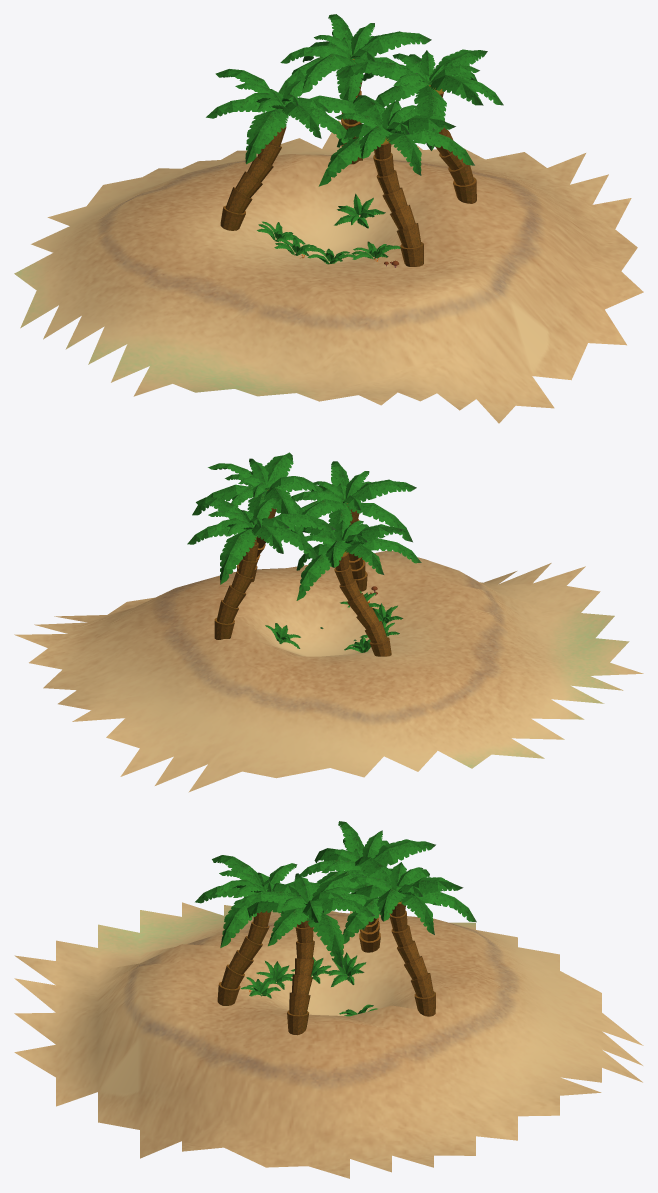
Rendered from ile_4.glb.
3 renders of one model, top to bottom at view 1: azimuth 30°, elevation 25°; view 2: azimuth 150°, elevation 25°; view 3: azimuth 270°, elevation 25°, orthographic. The views are drawn at different scales.
Visible parts, largest first — view 1: Terrain, palma tronco.009_Material.019_0, palma tronco.003_Material.019_0, Foglia.042_palmafoglia.001_0, palma tronco.005_Material.019_0, Foglia.063_palmafoglia.001_0, Foglia.303_palmafoglia.001_0, Foglia.321_palmafoglia.001_0, Foglia.323_palmafoglia.001_0, Foglia.291_palmafoglia.001_0, Foglia.307_palmafoglia.001_0, Foglia.318_palmafoglia.001_0 (+8 smaller); view 2: Terrain, palma tronco.003_Material.019_0, palma tronco.004_Material.019_0, Foglia.056_palmafoglia.001_0, Foglia.298_palmafoglia.001_0, Foglia.303_palmafoglia.001_0, Foglia.054_palmafoglia.001_0, Foglia.307_palmafoglia.001_0, Foglia.318_palmafoglia.001_0, palma tronco.009_Material.019_0, Foglia.042_palmafoglia.001_0, Foglia.306_palmafoglia.001_0 (+4 smaller); view 3: Terrain, palma tronco.004_Material.019_0, palma tronco.005_Material.019_0, palma tronco.009_Material.019_0, Foglia.311_palmafoglia.001_0, Foglia.049_palmafoglia.001_0, Foglia.291_palmafoglia.001_0, Foglia.309_palmafoglia.001_0, Foglia.312_palmafoglia.001_0, Foglia.056_palmafoglia.001_0, Foglia.318_palmafoglia.001_0, Foglia.336_palmafoglia.001_0 (+6 smaller).
Boxes of the visible parts, x1,y1,x2,y2 form: Terrain: (14,120,643,423); palma tronco.009_Material.019_0: (373,137,423,266); palma tronco.003_Material.019_0: (220,126,286,230); Foglia.042_palmafoglia.001_0: (245,108,288,164); palma tronco.005_Material.019_0: (429,85,476,203); Foglia.063_palmafoglia.001_0: (353,31,431,59); Foglia.303_palmafoglia.001_0: (318,136,385,186); Foglia.321_palmafoglia.001_0: (336,61,423,87); Foglia.323_palmafoglia.001_0: (414,85,446,150); Foglia.291_palmafoglia.001_0: (401,128,474,165); Foglia.307_palmafoglia.001_0: (301,53,354,93); Foglia.318_palmafoglia.001_0: (430,75,483,105); Terrain: (14,550,643,792); palma tronco.003_Material.019_0: (334,551,391,656); palma tronco.004_Material.019_0: (214,537,258,639); Foglia.056_palmafoglia.001_0: (220,529,257,584); Foglia.298_palmafoglia.001_0: (347,479,416,503); Foglia.303_palmafoglia.001_0: (346,502,412,542); Foglia.054_palmafoglia.001_0: (296,552,342,600); Foglia.307_palmafoglia.001_0: (264,513,335,531); Foglia.318_palmafoglia.001_0: (264,452,293,489); palma tronco.009_Material.019_0: (347,503,367,591); Foglia.042_palmafoglia.001_0: (360,538,421,563); Foglia.306_palmafoglia.001_0: (266,525,317,558); Terrain: (14,902,643,1178); palma tronco.004_Material.019_0: (389,900,435,1016); palma tronco.005_Material.019_0: (287,918,314,1035); palma tronco.009_Material.019_0: (217,910,270,1005); Foglia.311_palmafoglia.001_0: (307,912,344,967); Foglia.049_palmafoglia.001_0: (373,839,435,866); Foglia.291_palmafoglia.001_0: (220,899,261,947); Foglia.309_palmafoglia.001_0: (343,897,381,944); Foglia.312_palmafoglia.001_0: (268,907,308,946); Foglia.056_palmafoglia.001_0: (411,891,476,922); Foglia.318_palmafoglia.001_0: (232,891,306,907); Foglia.336_palmafoglia.001_0: (326,952,366,986).
Bounding box in the file's own units: 12.84 × 5.04 × 12.84.
Materials: 4 (4 with a texture image).
